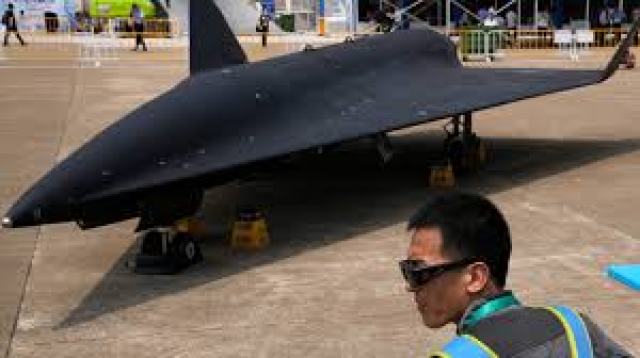military drone: (0, 0, 640, 263)
